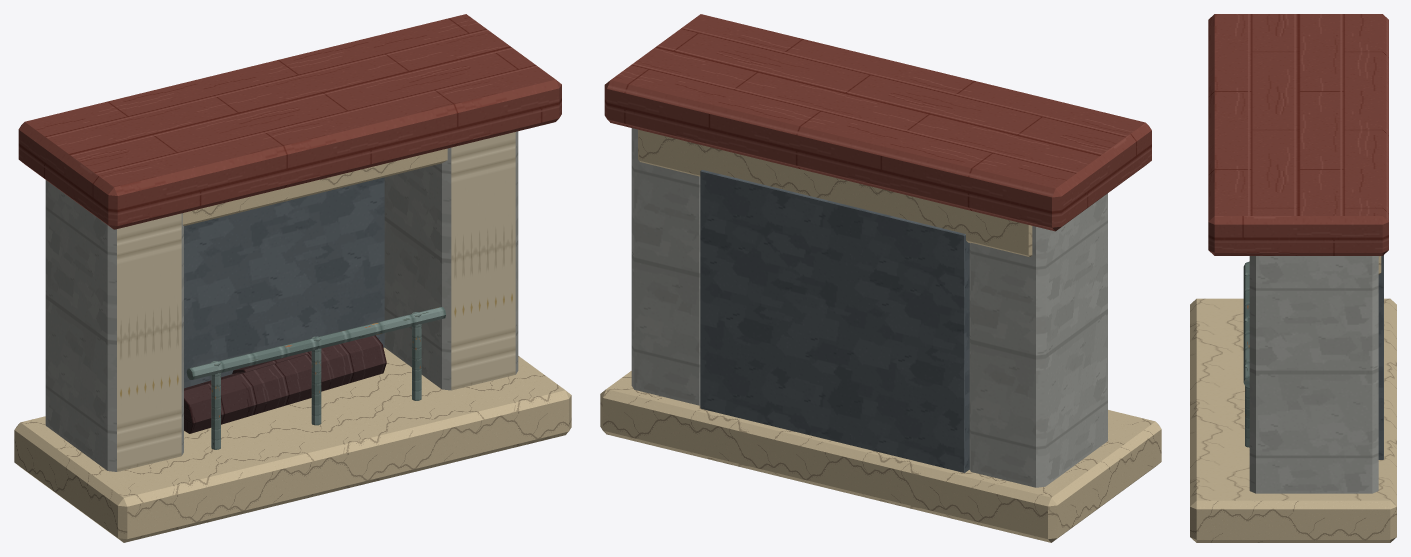
The model's file is MD_20_Fireplace.fbx.
3 renders of one model, left to right at view 1: azimuth 30°, elevation 25°; view 2: azimuth 150°, elevation 25°; view 3: azimuth 270°, elevation 25°, orthographic. The views are drawn at different scales.
Visible parts, largest first — view 1: MD_20_Fireplace_mantel_beam, MD_20_Fireplace_hearth, MD_20_Fireplace_carved_pier, MD_20_Fireplace_firebox_back, MD_20_Fireplace_carved_pier.001, MD_20_Fireplace_firewood, MD_20_Fireplace_stone_lintel, MD_20_Fireplace_grate_top, MD_20_Fireplace_firewood.001, MD_20_Fireplace_grate_bar.001, MD_20_Fireplace_grate_bar.002, MD_20_Fireplace_grate_bar; view 2: MD_20_Fireplace_firebox_back, MD_20_Fireplace_mantel_beam, MD_20_Fireplace_carved_pier, MD_20_Fireplace_hearth, MD_20_Fireplace_carved_pier.001, MD_20_Fireplace_stone_lintel; view 3: MD_20_Fireplace_mantel_beam, MD_20_Fireplace_carved_pier.001, MD_20_Fireplace_hearth, MD_20_Fireplace_firebox_back, MD_20_Fireplace_grate_top, MD_20_Fireplace_grate_bar.002.
Boxes of the visible parts, x1=… form: MD_20_Fireplace_mantel_beam: x1=18, y1=14, x2=561, y2=229; MD_20_Fireplace_hearth: x1=14, y1=347, x2=571, y2=542; MD_20_Fireplace_carved_pier: x1=45, y1=180, x2=183, y2=471; MD_20_Fireplace_firebox_back: x1=184, y1=177, x2=384, y2=388; MD_20_Fireplace_carved_pier.001: x1=384, y1=131, x2=518, y2=390; MD_20_Fireplace_firewood: x1=184, y1=354, x2=321, y2=433; MD_20_Fireplace_stone_lintel: x1=182, y1=148, x2=447, y2=225; MD_20_Fireplace_grate_top: x1=186, y1=307, x2=445, y2=379; MD_20_Fireplace_firewood.001: x1=232, y1=335, x2=386, y2=391; MD_20_Fireplace_grate_bar.001: x1=311, y1=336, x2=321, y2=425; MD_20_Fireplace_grate_bar.002: x1=412, y1=312, x2=421, y2=400; MD_20_Fireplace_grate_bar: x1=211, y1=361, x2=220, y2=449; MD_20_Fireplace_firebox_back: x1=700, y1=170, x2=969, y2=472; MD_20_Fireplace_mantel_beam: x1=604, y1=14, x2=1151, y2=231; MD_20_Fireplace_carved_pier: x1=969, y1=193, x2=1107, y2=487; MD_20_Fireplace_hearth: x1=600, y1=371, x2=1161, y2=542; MD_20_Fireplace_carved_pier.001: x1=631, y1=128, x2=700, y2=405; MD_20_Fireplace_stone_lintel: x1=638, y1=129, x2=1032, y2=256; MD_20_Fireplace_mantel_beam: x1=1208, y1=14, x2=1388, y2=255; MD_20_Fireplace_carved_pier.001: x1=1249, y1=256, x2=1378, y2=493; MD_20_Fireplace_hearth: x1=1190, y1=298, x2=1396, y2=542; MD_20_Fireplace_firebox_back: x1=1378, y1=255, x2=1383, y2=459; MD_20_Fireplace_grate_top: x1=1243, y1=261, x2=1249, y2=387; MD_20_Fireplace_grate_bar.002: x1=1245, y1=364, x2=1249, y2=447.
Bounding box in the file's own units: 1.9 × 1.4 × 0.8.
7 materials, 7 textured.
